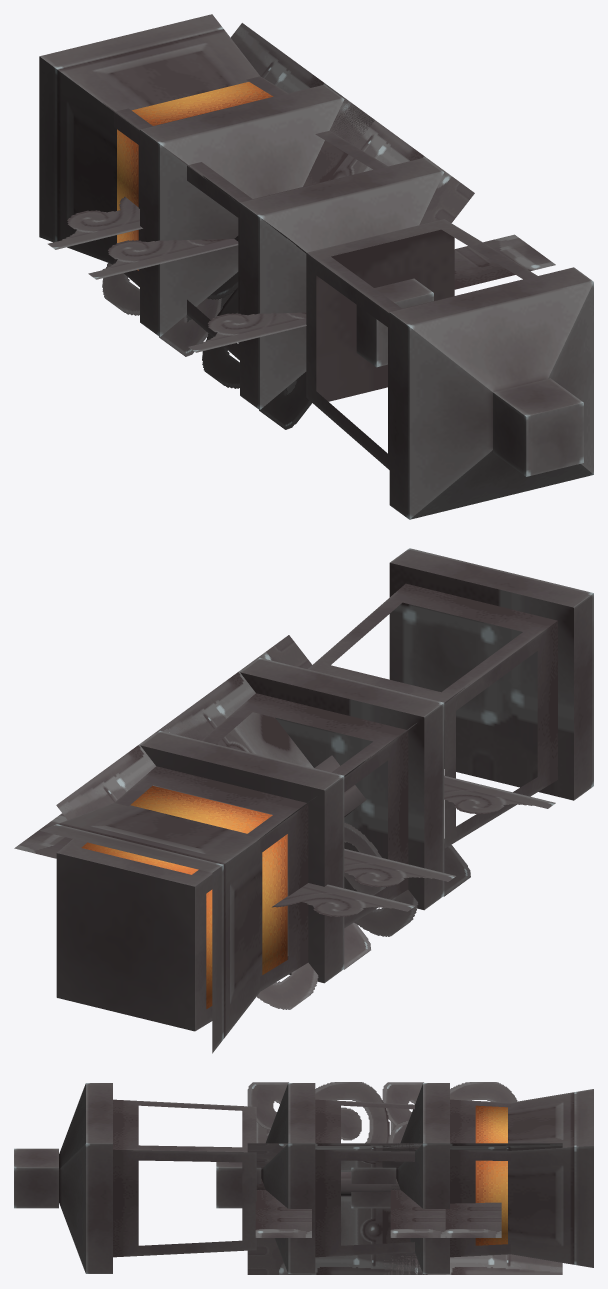
The model's file is gaslamp_short_01.glb.
The picture shows the model from 3 angles, top to bottom: view 1: azimuth 30°, elevation 25°; view 2: azimuth 150°, elevation 25°; view 3: azimuth 270°, elevation 25°; orthographic projection. The views are drawn at different scales.
Visible parts, largest first — view 1: gaslamp.gaslamp_set_01-MeshSets[gaslamp_tall].Mesh[0], gaslamp.gaslamp_set_01-MeshSets[gaslamp_short].Mesh[0], gaslamp.gaslamp_set_01-MeshSets[part_gaslamp_lantern].Mesh[1, gaslamp.gaslamp_set_01-MeshSets[part_gaslamp_post].Mesh[0], gaslamp.gaslamp_set_01-MeshSets[part_gaslamp_lantern].Mesh[0; view 2: gaslamp.gaslamp_set_01-MeshSets[gaslamp_tall].Mesh[0], gaslamp.gaslamp_set_01-MeshSets[gaslamp_short].Mesh[0], gaslamp.gaslamp_set_01-MeshSets[part_gaslamp_lantern].Mesh[1, gaslamp.gaslamp_set_01-MeshSets[part_gaslamp_lantern].Mesh[0, gaslamp.gaslamp_set_01-MeshSets[part_gaslamp_post].Mesh[0]; view 3: gaslamp.gaslamp_set_01-MeshSets[gaslamp_tall].Mesh[0], gaslamp.gaslamp_set_01-MeshSets[gaslamp_short].Mesh[0], gaslamp.gaslamp_set_01-MeshSets[part_gaslamp_lantern].Mesh[1, gaslamp.gaslamp_set_01-MeshSets[part_gaslamp_post].Mesh[0], gaslamp.gaslamp_set_01-MeshSets[part_gaslamp_lantern].Mesh[0.
Boxes of the visible parts, <box> form: gaslamp.gaslamp_set_01-MeshSets[gaslamp_tall].Mesh[0]: <box>188,96,593,519</box>; gaslamp.gaslamp_set_01-MeshSets[gaslamp_short].Mesh[0]: <box>39,14,443,409</box>; gaslamp.gaslamp_set_01-MeshSets[part_gaslamp_lantern].Mesh[1: <box>114,76,344,336</box>; gaslamp.gaslamp_set_01-MeshSets[part_gaslamp_post].Mesh[0]: <box>88,23,374,356</box>; gaslamp.gaslamp_set_01-MeshSets[part_gaslamp_lantern].Mesh[0: <box>117,82,273,270</box>; gaslamp.gaslamp_set_01-MeshSets[gaslamp_tall].Mesh[0]: <box>156,548,593,936</box>; gaslamp.gaslamp_set_01-MeshSets[gaslamp_short].Mesh[0]: <box>14,658,444,1053</box>; gaslamp.gaslamp_set_01-MeshSets[part_gaslamp_lantern].Mesh[1: <box>56,731,344,1031</box>; gaslamp.gaslamp_set_01-MeshSets[part_gaslamp_lantern].Mesh[0: <box>81,785,287,1008</box>; gaslamp.gaslamp_set_01-MeshSets[part_gaslamp_post].Mesh[0]: <box>56,709,455,1009</box>; gaslamp.gaslamp_set_01-MeshSets[gaslamp_tall].Mesh[0]: <box>14,1082,427,1274</box>; gaslamp.gaslamp_set_01-MeshSets[gaslamp_short].Mesh[0]: <box>216,1083,593,1273</box>; gaslamp.gaslamp_set_01-MeshSets[part_gaslamp_lantern].Mesh[1: <box>351,1083,510,1273</box>; gaslamp.gaslamp_set_01-MeshSets[part_gaslamp_post].Mesh[0]: <box>382,1082,562,1274</box>; gaslamp.gaslamp_set_01-MeshSets[part_gaslamp_lantern].Mesh[0: <box>475,1105,507,1245</box>.
Size of the model in its own units: 1.25 by 0.6457 by 2.58.
2 materials, 2 textured.
